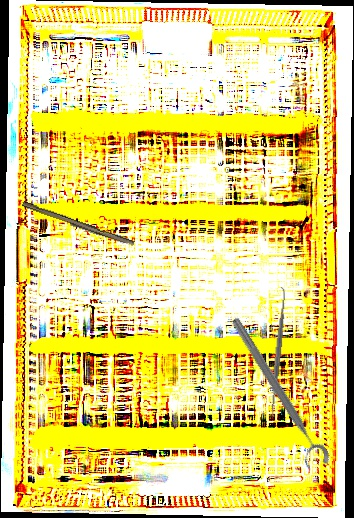Fixation Ring: (218, 314, 334, 475)
Scalpel Handle: (20, 201, 136, 248)
Spatula Surgical: (264, 286, 292, 418)
